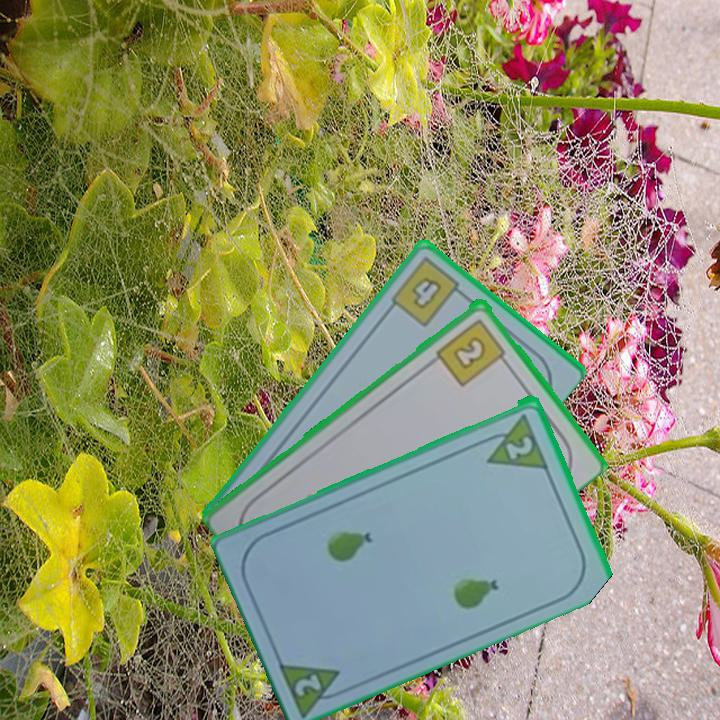2b: (432, 314, 512, 389)
2p: (275, 655, 353, 717), (476, 409, 551, 472)
4b: (387, 253, 469, 330)
